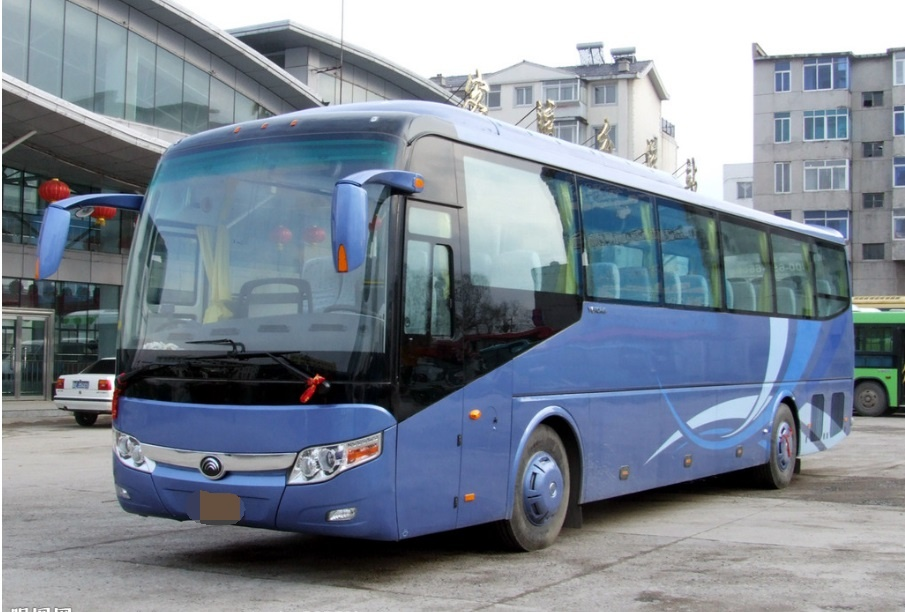bus: (35, 108, 865, 554)
